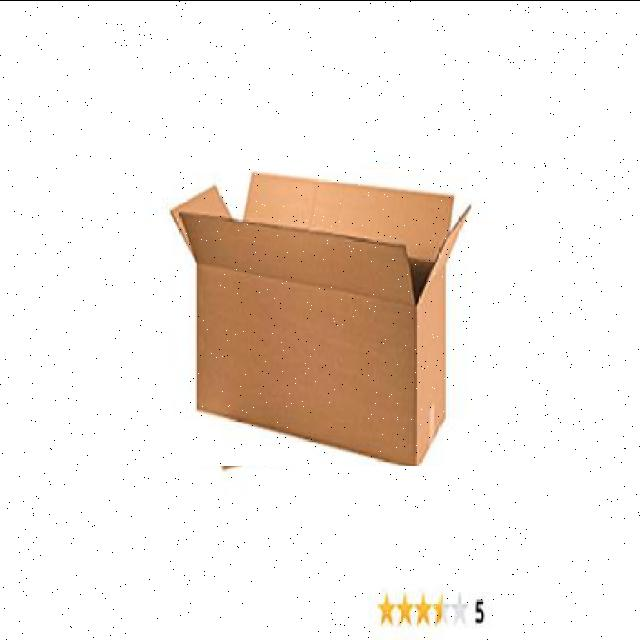defect: (168, 169, 472, 465)
